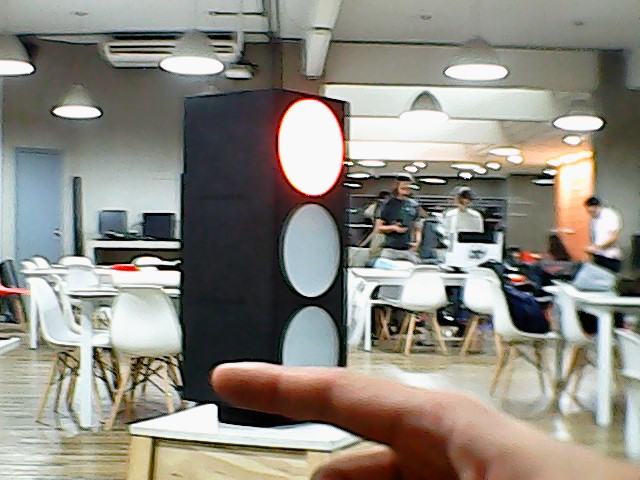vermelho: (179, 77, 356, 419)
